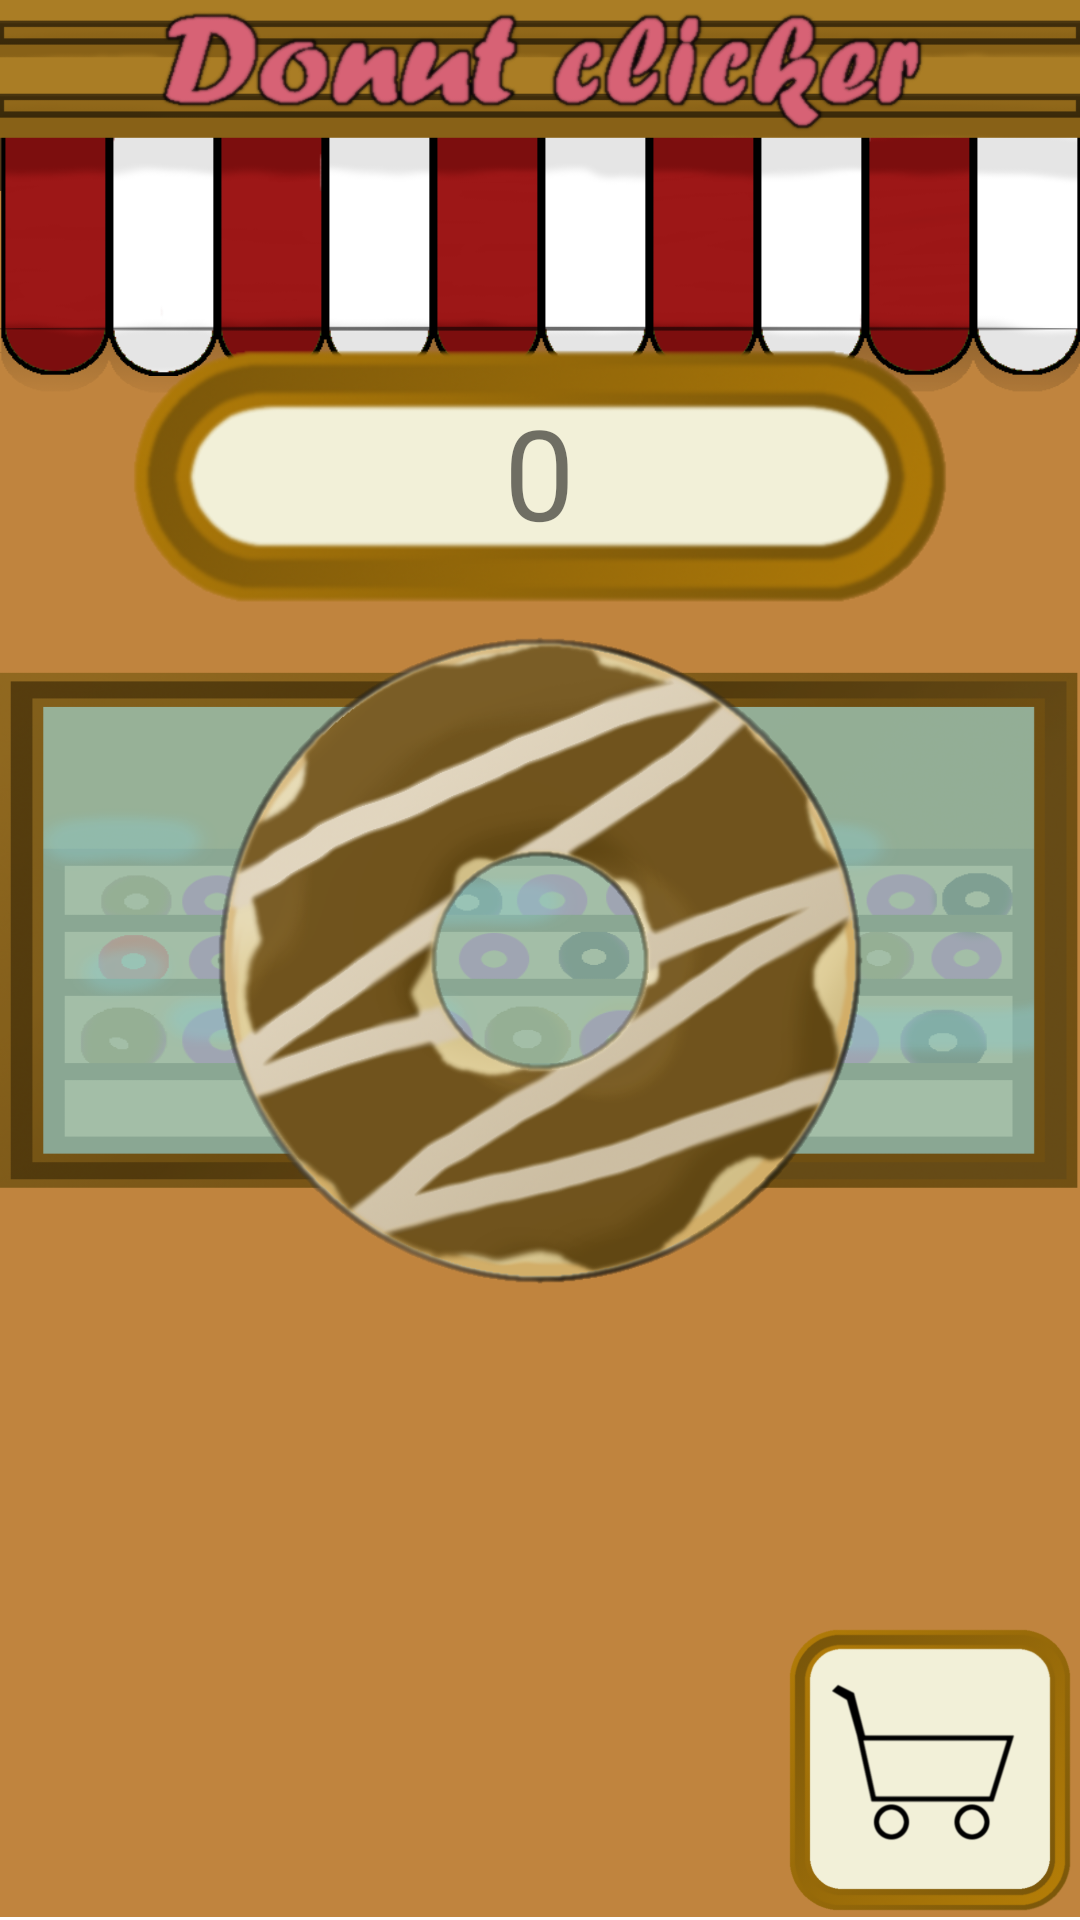

Screen size 1080px×1920px. Icon name, then its box in pixels as box=[x1, y1, x2, y2]:
shop: box=[790, 1630, 1070, 1910]
